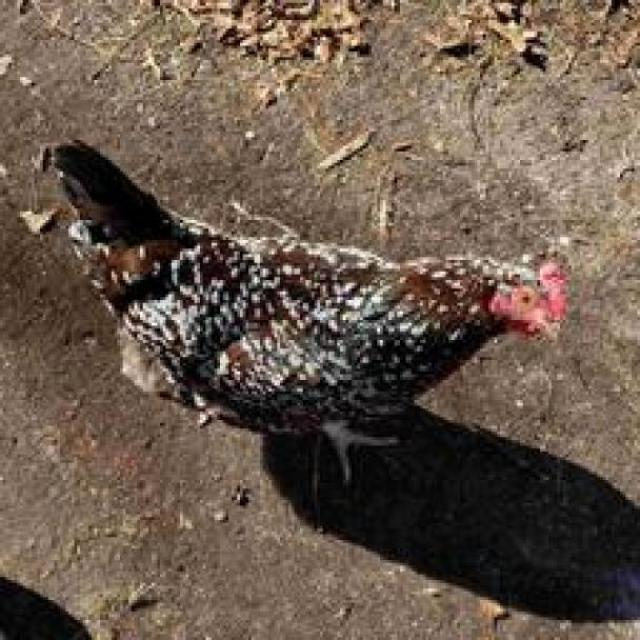Chicken: (30, 132, 586, 513)
